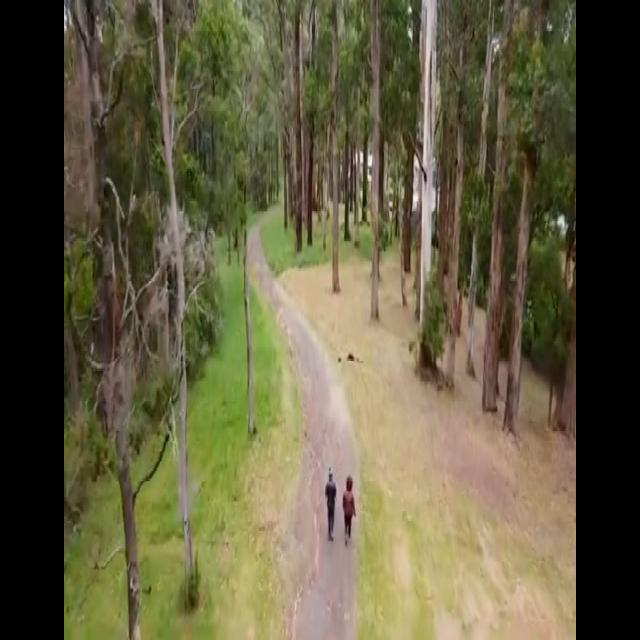humans: (341, 465, 357, 549), (324, 468, 336, 544)
